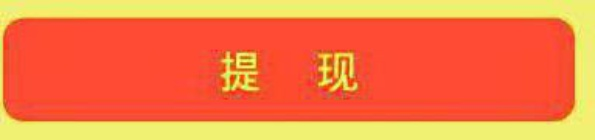Button: (1, 1, 594, 139)
